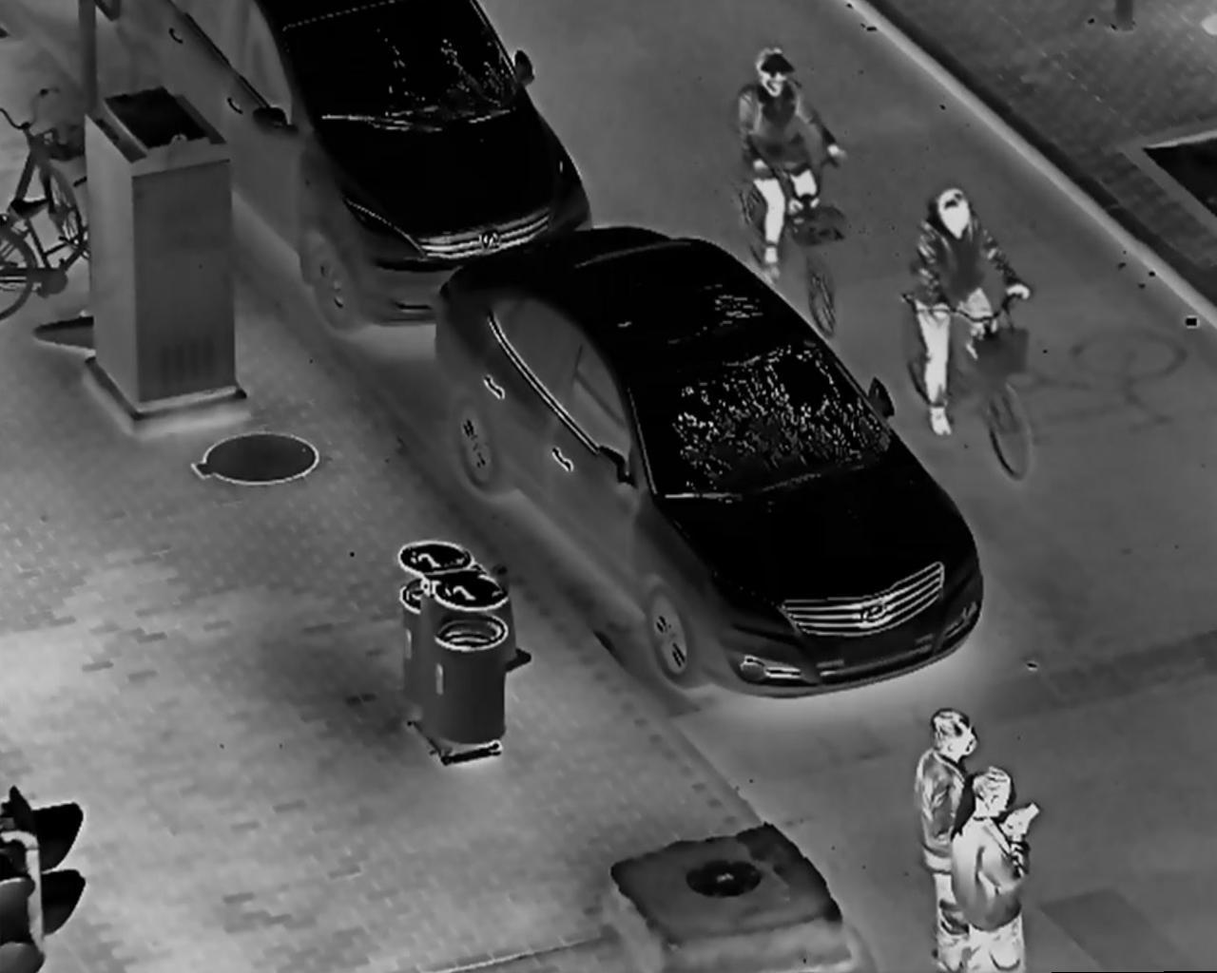person: (907, 186, 1039, 436), (732, 46, 847, 279), (951, 765, 1045, 973), (913, 706, 981, 973)
